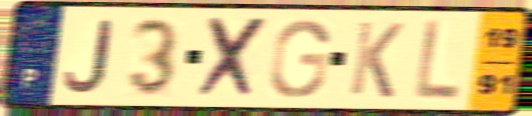3: (126, 16, 183, 98)
G: (267, 17, 333, 100)
J: (62, 17, 114, 95)
K: (346, 18, 407, 101)
L: (411, 17, 463, 104)
X: (194, 15, 272, 102)
